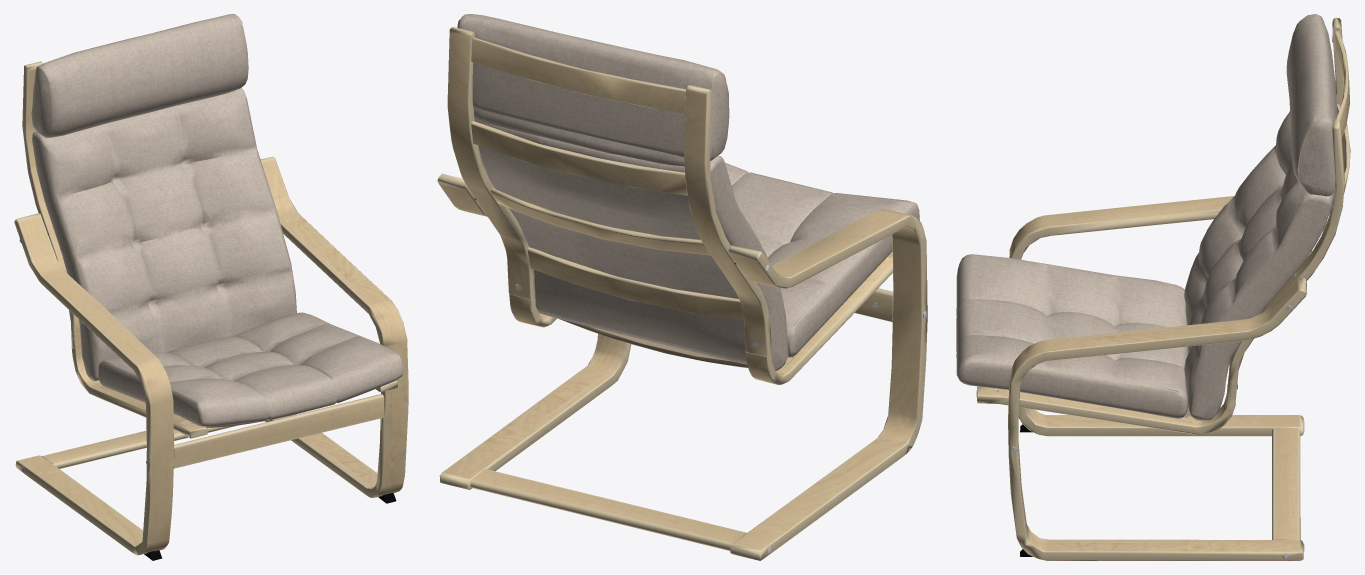
Rendered from poang_fotel_59514385.glb.
3 views of the same model, side by side, from view 1: azimuth 30°, elevation 25°; view 2: azimuth 150°, elevation 25°; view 3: azimuth 270°, elevation 25° (orthographic). The views are drawn at different scales.
Visible parts, largest first — view 1: poang_fotel_59514385; view 2: poang_fotel_59514385; view 3: poang_fotel_59514385.
Part boxes in pixels (x1=…): poang_fotel_59514385: x1=14, y1=14, x2=408, y2=560; poang_fotel_59514385: x1=437, y1=14, x2=927, y2=560; poang_fotel_59514385: x1=956, y1=14, x2=1350, y2=560.
Bounding box in the file's own units: 0.6871 × 0.9943 × 0.827.
2 materials, 2 textured.
